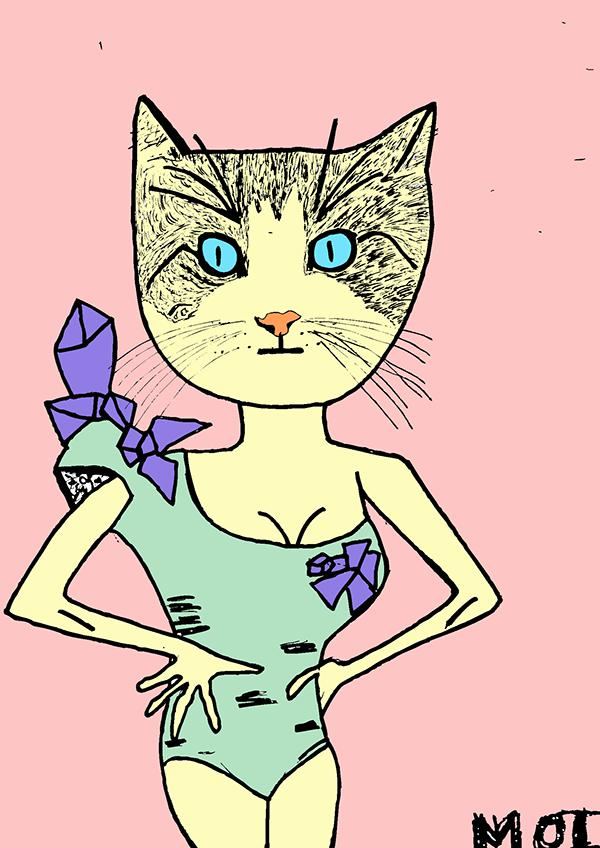cat: (131, 139, 427, 848)
